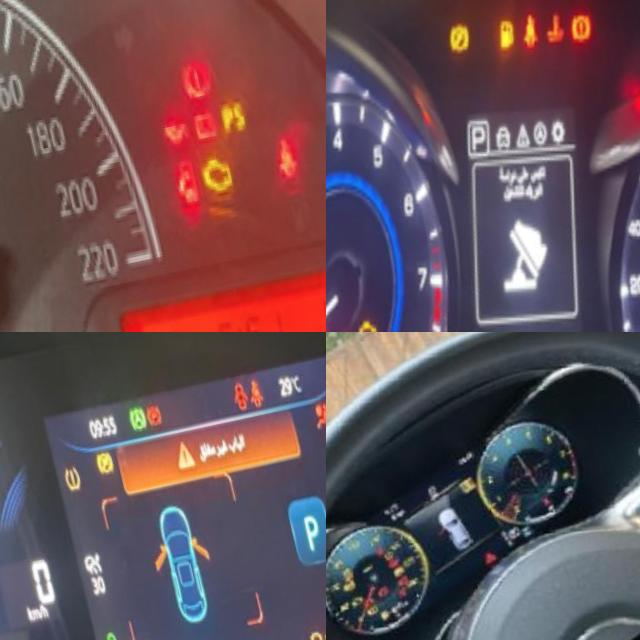Engine cooling system: (529, 23, 566, 70), (524, 517, 539, 533)
Low fuel level: (483, 27, 516, 73), (362, 623, 374, 637)
